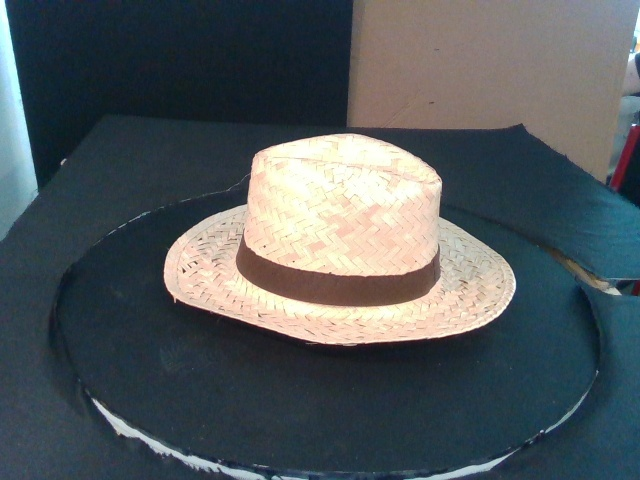hat: (164, 134, 516, 347)
